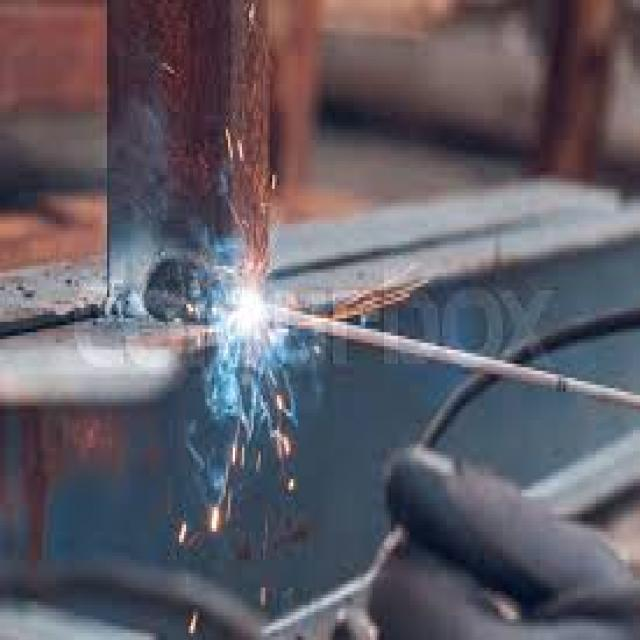welding: (232, 278, 270, 338)
